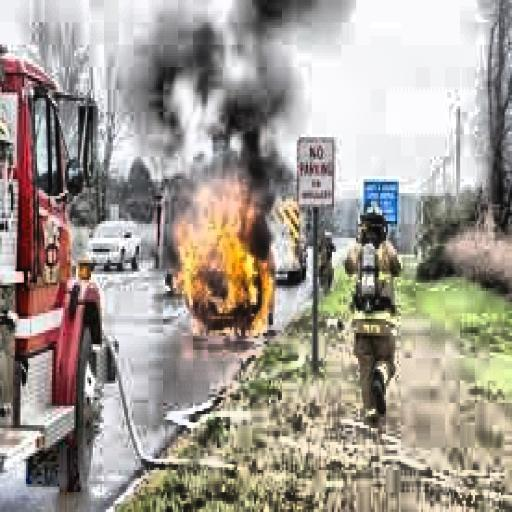fire: (161, 168, 293, 355)
